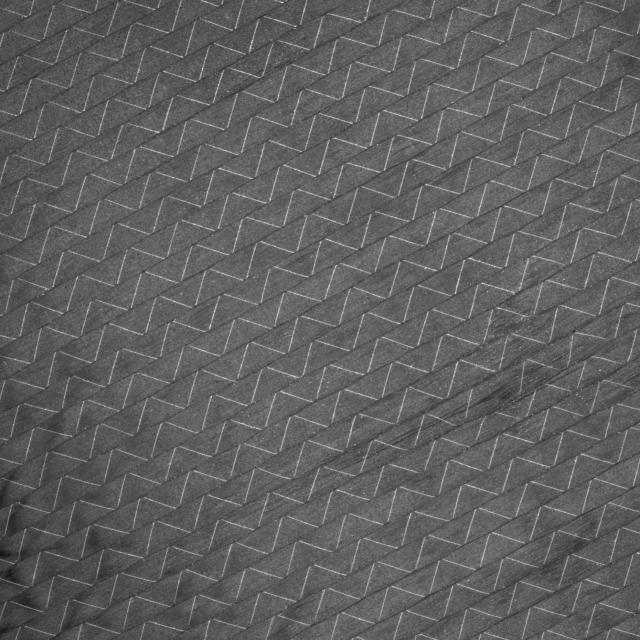carbon-fibre-defect: (424, 318, 618, 439), (294, 413, 431, 498), (571, 358, 640, 420)
